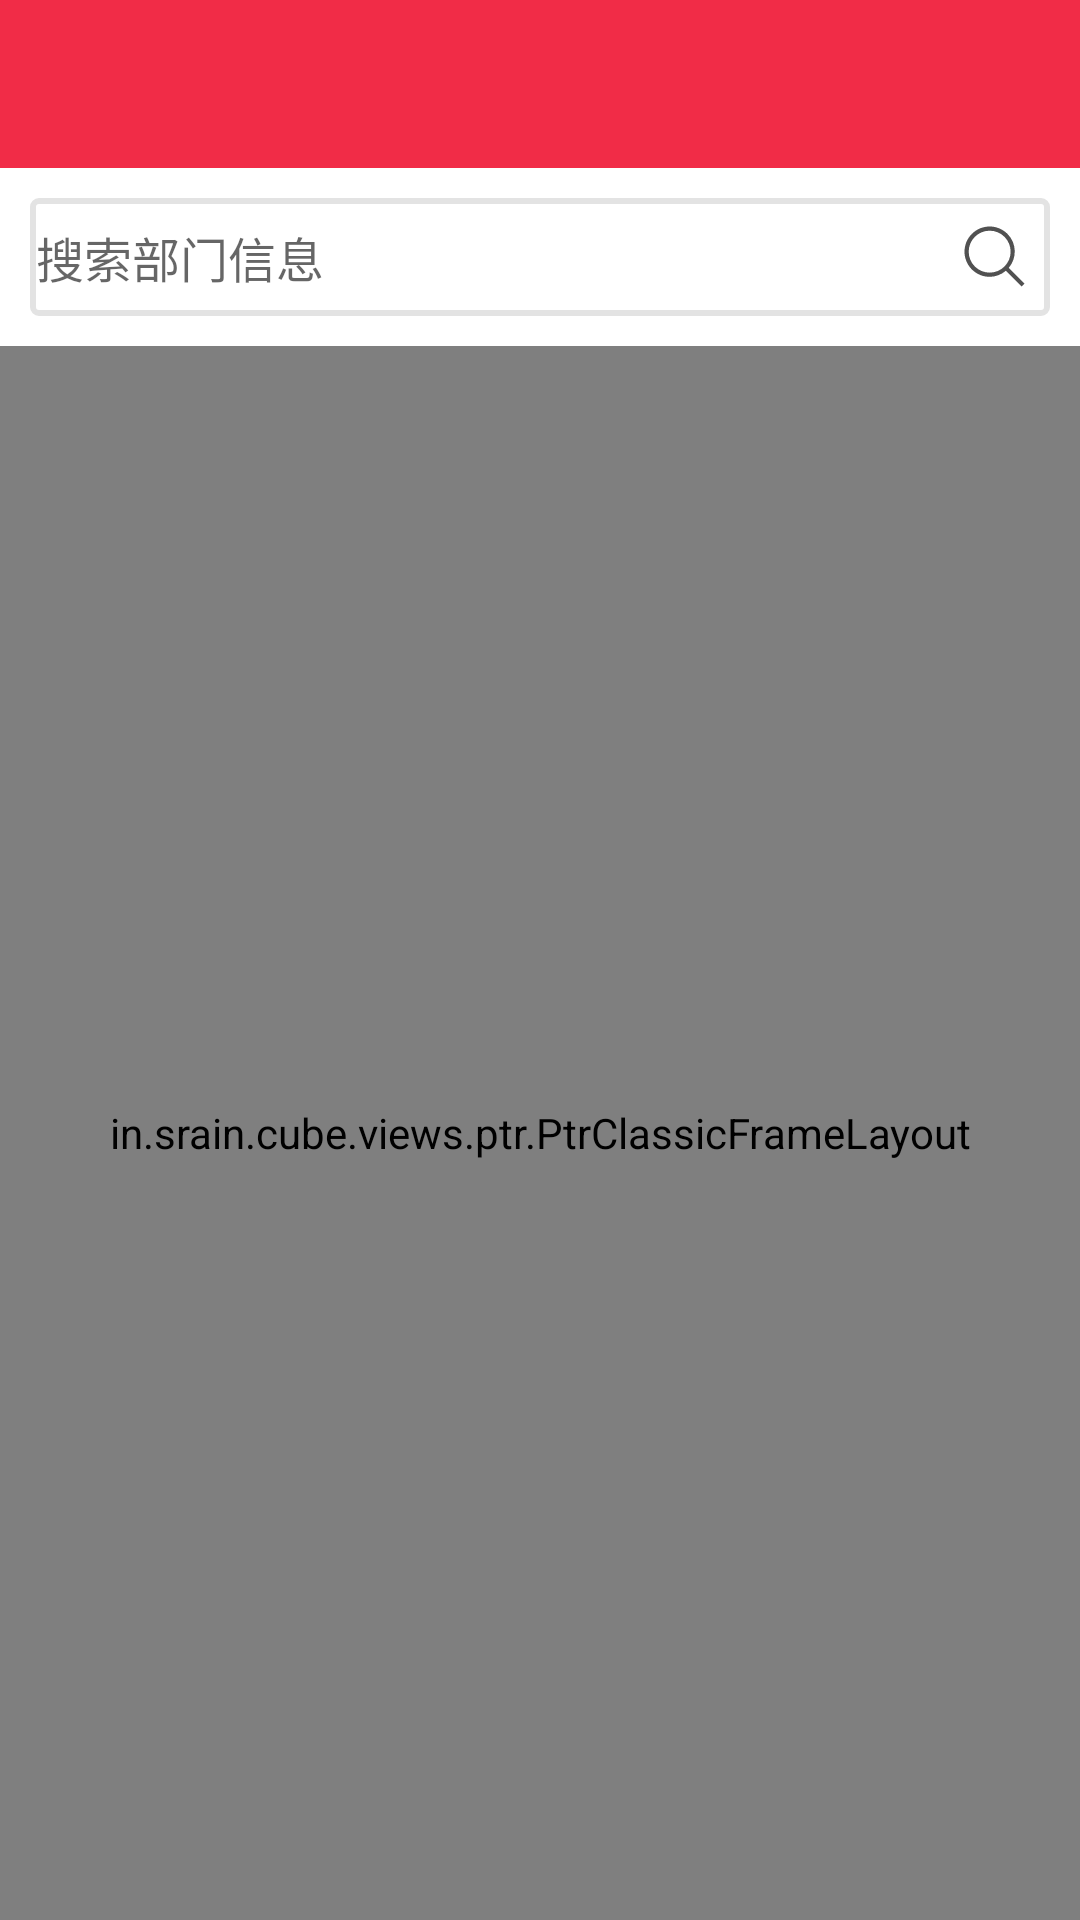

Icon click points for this 1080px×1920px phone screenshot, format point (x, y):
search: point (994, 256)
